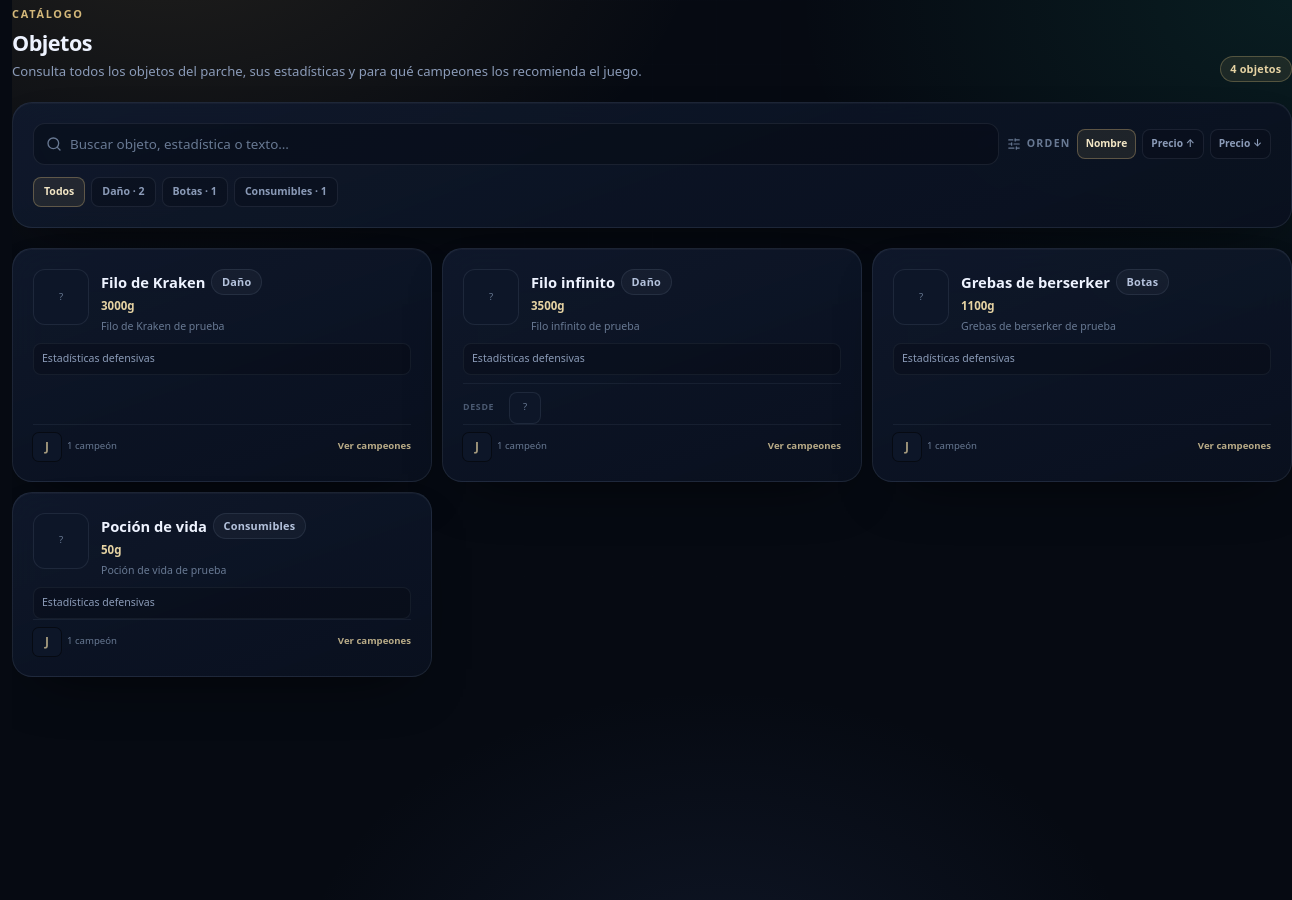
Test: catálogo de objetos › filtra por categoría y limpia los filtros
The image size is (1292, 900).
Click the button "Botas · 1". click: click(195, 192)
box: [162,177,228,207]
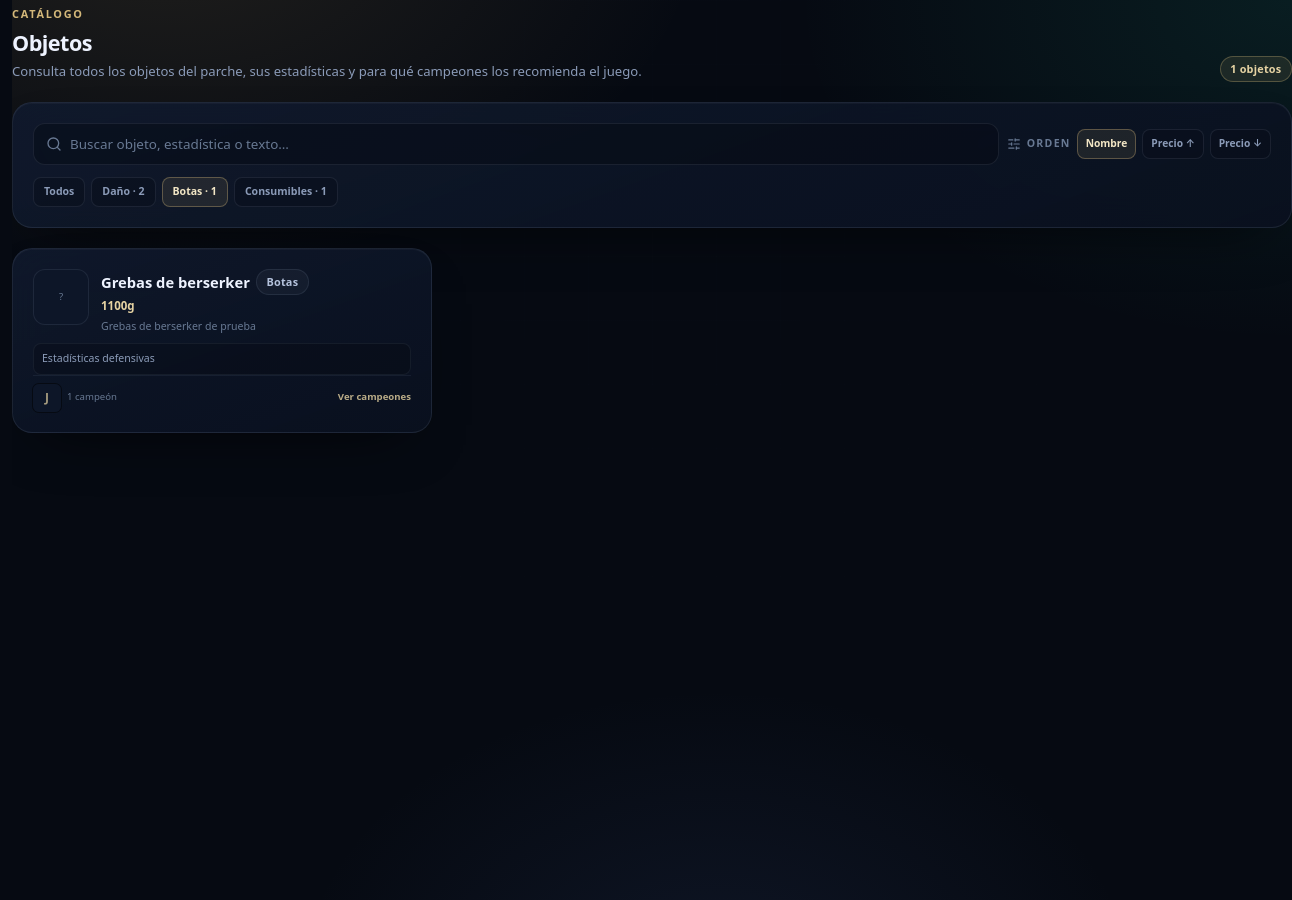
Check: the heading "Grebas de berserker" is shown, box [101,271,250,293]
Check: the heading "Filo infinito" is gone
Type "sin resultados" into the field with placeholder "Buscar objeto, estadística o texto…". click: (528, 144)
box: [70,124,986,164]
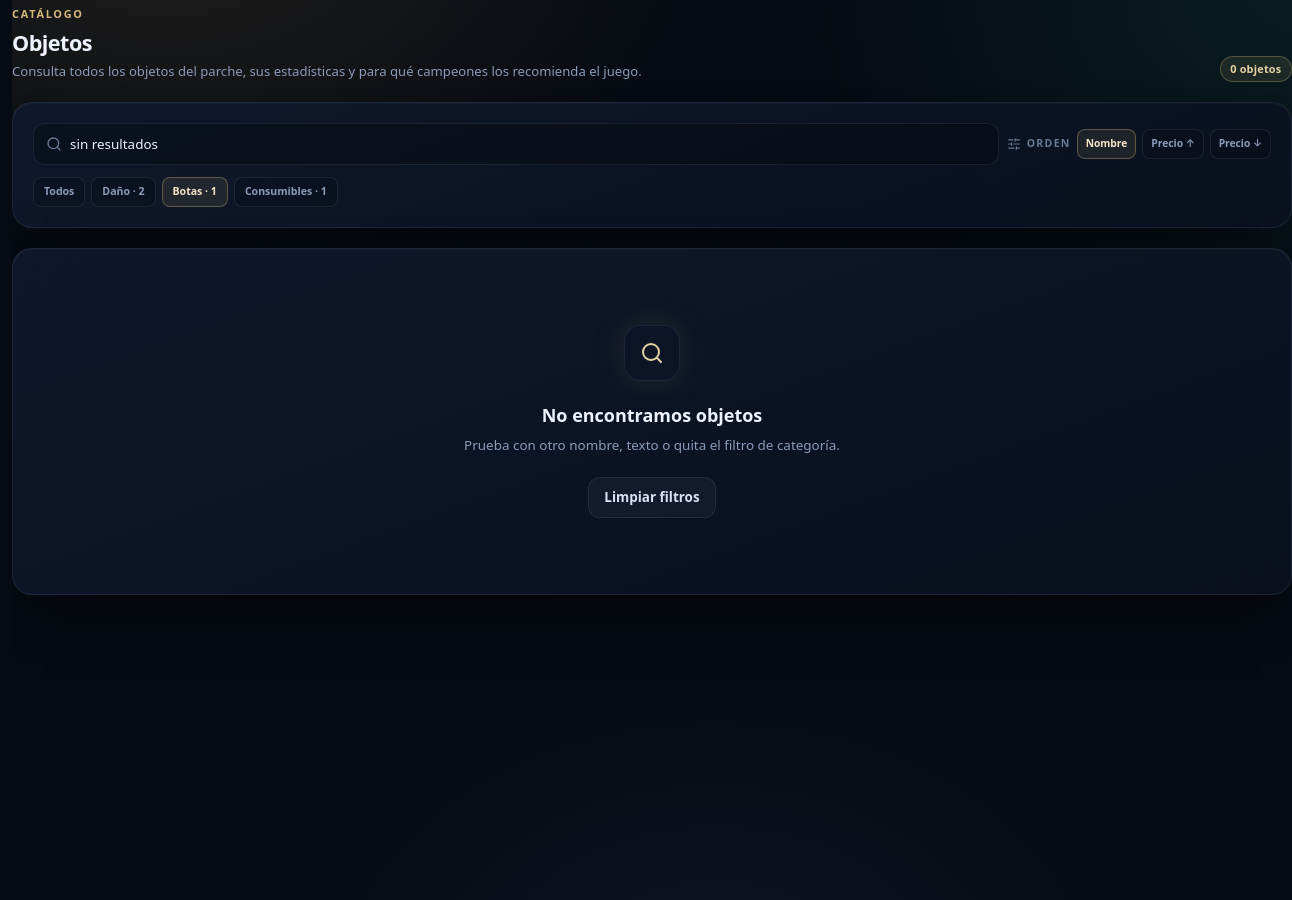
Click the button "Limpiar filtros". click: click(652, 497)
box: [588,477,716,518]
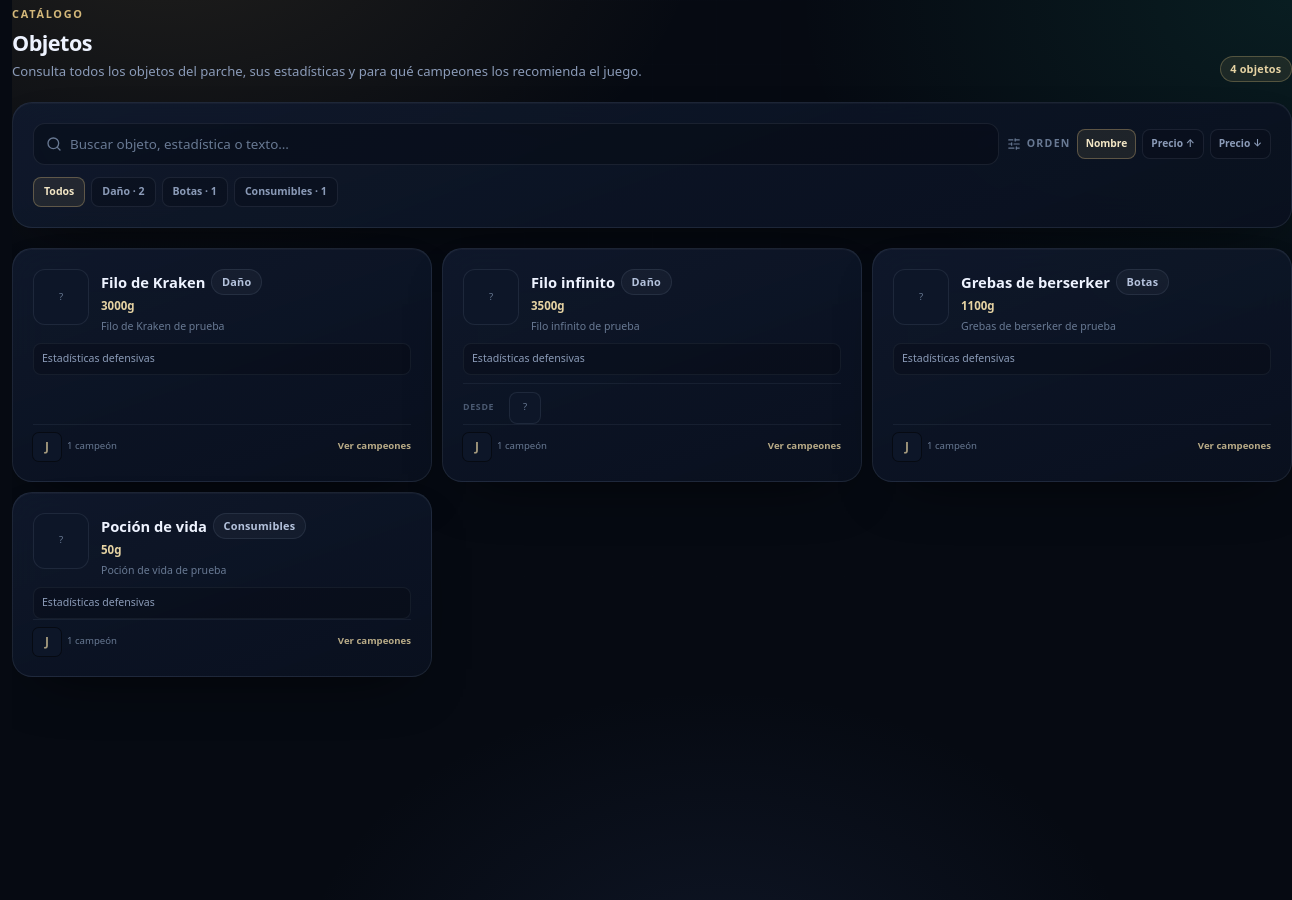
Check: the heading "Filo infinito" is shown, box [531,271,615,293]
Check: the heading "No encontramos objetos" is gone
